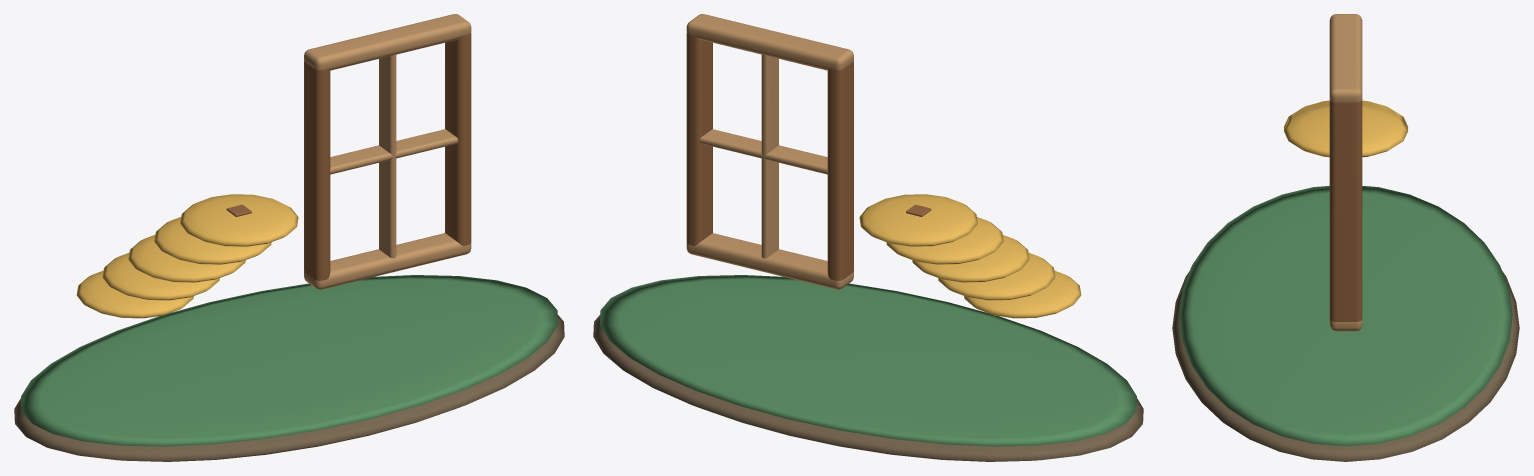
The model's file is price-grid.glb.
The picture shows the model from 3 angles, left to right: view 1: azimuth 30°, elevation 25°; view 2: azimuth 150°, elevation 25°; view 3: azimuth 270°, elevation 25°; orthographic projection. The views are drawn at different scales.
Parts seen in each view (by area): view 1: price-grid_surface_01, price-grid_surface_02, price-grid_surface_04, price-grid_surface_03, price-grid_surface_00; view 2: price-grid_surface_01, price-grid_surface_02, price-grid_surface_04, price-grid_surface_03, price-grid_surface_00; view 3: price-grid_surface_01, price-grid_surface_03, price-grid_surface_00, price-grid_surface_02, price-grid_surface_04.
Boxes of the visible parts, x1,y1,x2,y2 form: price-grid_surface_01: (21, 275, 557, 446); price-grid_surface_02: (76, 194, 298, 318); price-grid_surface_04: (304, 14, 471, 289); price-grid_surface_03: (226, 33, 471, 280); price-grid_surface_00: (14, 315, 564, 461); price-grid_surface_01: (600, 275, 1136, 446); price-grid_surface_02: (859, 194, 1081, 318); price-grid_surface_04: (686, 14, 853, 289); price-grid_surface_03: (686, 33, 931, 280); price-grid_surface_00: (593, 315, 1143, 461); price-grid_surface_01: (1179, 186, 1512, 446); price-grid_surface_03: (1329, 100, 1362, 321); price-grid_surface_00: (1172, 271, 1519, 461); price-grid_surface_02: (1284, 100, 1407, 157); price-grid_surface_04: (1329, 14, 1362, 331).
Bounding box in the file's own units: 4.56 × 2.72 × 2.5.
